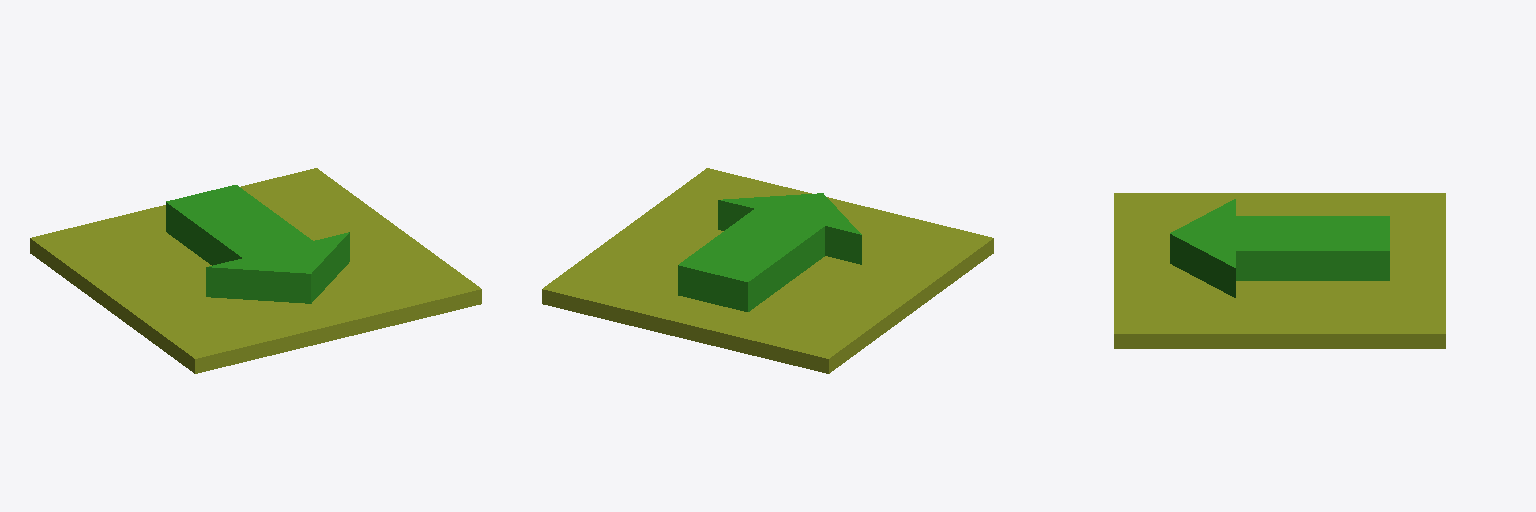
File: tttarget.obj
3 views of the same model, side by side, from view 1: azimuth 30°, elevation 25°; view 2: azimuth 150°, elevation 25°; view 3: azimuth 270°, elevation 25° (orthographic).
Visible parts, largest first — view 1: Cube_Cube.002; view 2: Cube_Cube.002; view 3: Cube_Cube.002.
Part boxes in pixels (x1,y1,x2,y2): Cube_Cube.002: (30,168,481,373); Cube_Cube.002: (542,168,993,373); Cube_Cube.002: (1114,193,1445,348).
Size of the model in its own units: 2 by 0.3 by 2.